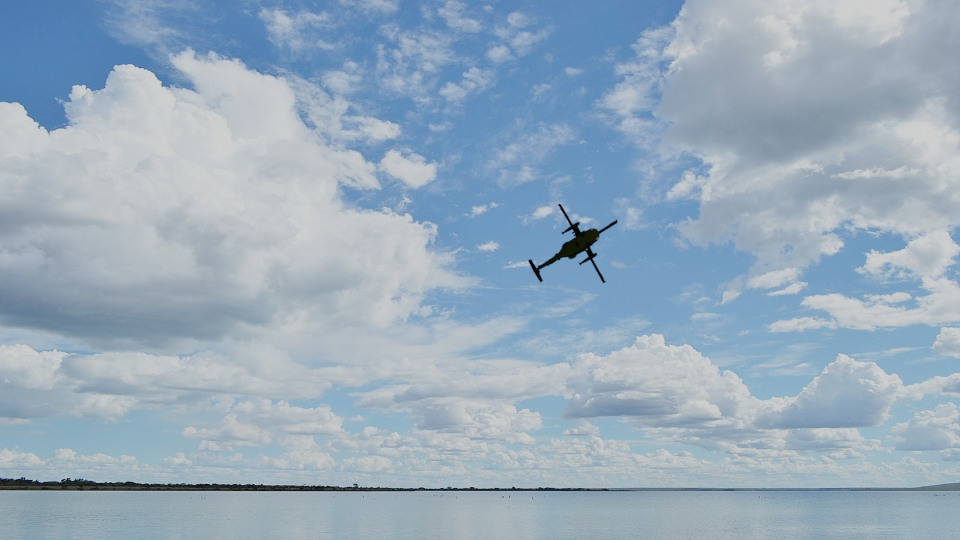heli: (525, 203, 617, 282)
